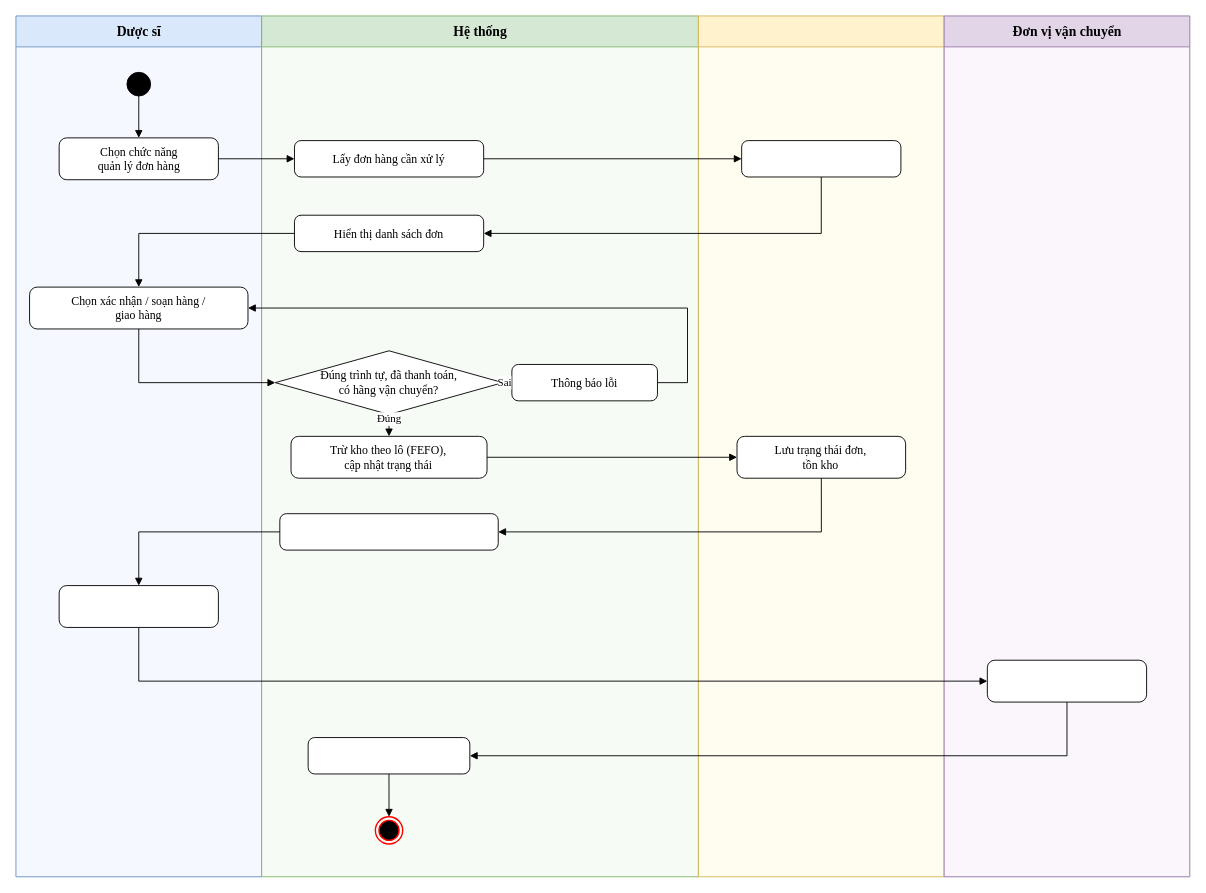
This 1206x893 diagram has some shape labels left out. The shapes that lost their labels are listed below. From the top down, each one's box as (x1, y1, x2, y2) in pixels, then its label:
(741, 140, 901, 177): Truy vấn đơn hàng
(698, 15, 944, 877): Cơ sở dữ liệu
(279, 513, 498, 550): Hiển thị cập nhật thành công
(58, 585, 218, 627): Bàn giao hàng kèm mã vận đơn
(986, 659, 1147, 702): Giao hàng cho khách hàng
(307, 737, 470, 774): Cập nhật "Đã giao"
